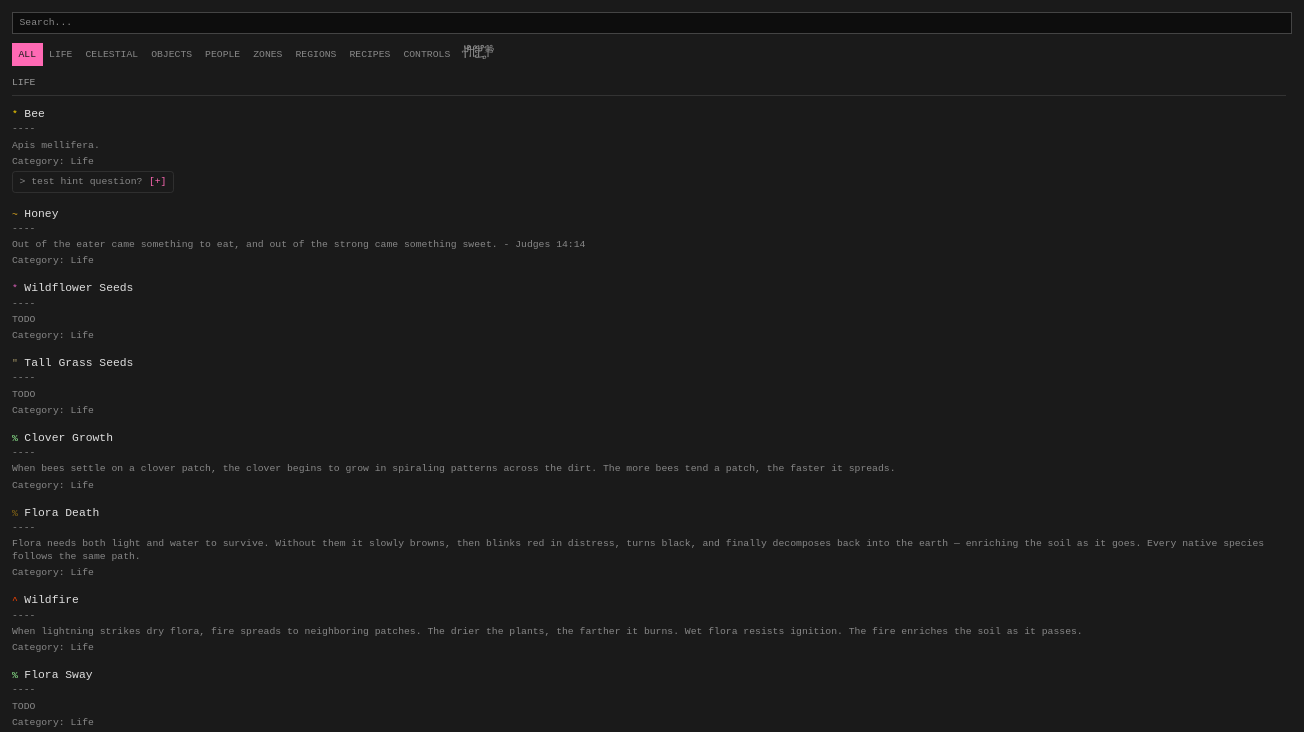
Test: ManualPanel › toggles hint blocks on click
expect the text "test hint answer" is not shown: met
// Click to reveal
Click the text "> test hint question?" at (25, 182), box 20,176 -> 142,187
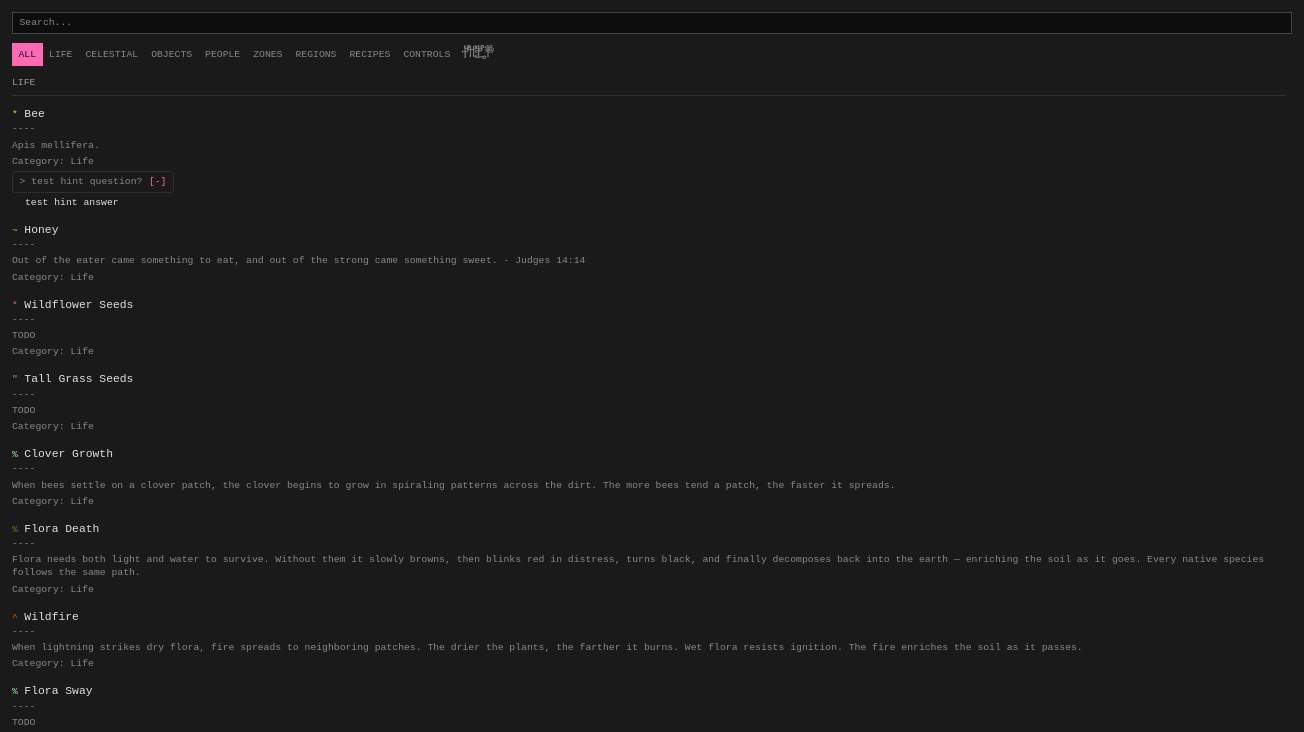
expect the text "test hint answer" is shown: met, box 25,197 -> 119,208
